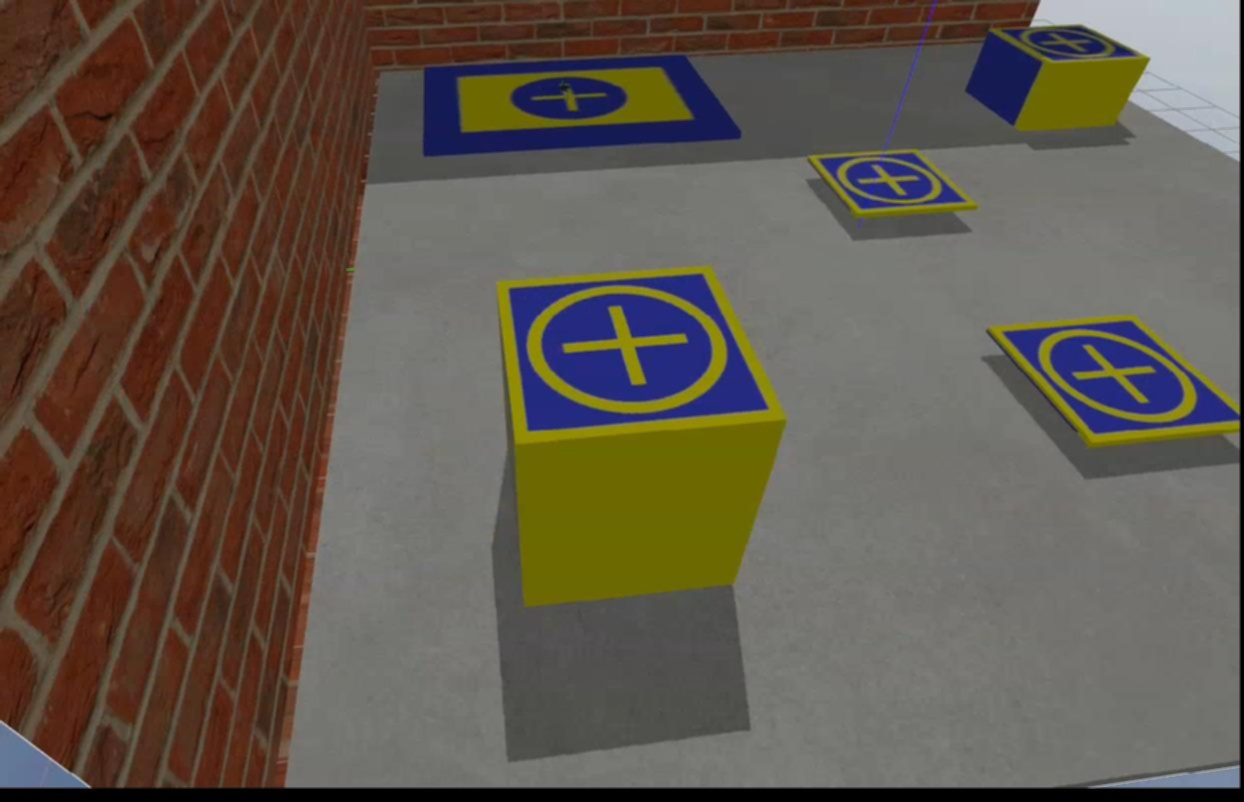large_base: (424, 55, 744, 161), (988, 22, 1153, 73)
small_base: (497, 268, 787, 449), (988, 310, 1242, 449), (807, 147, 978, 220)
